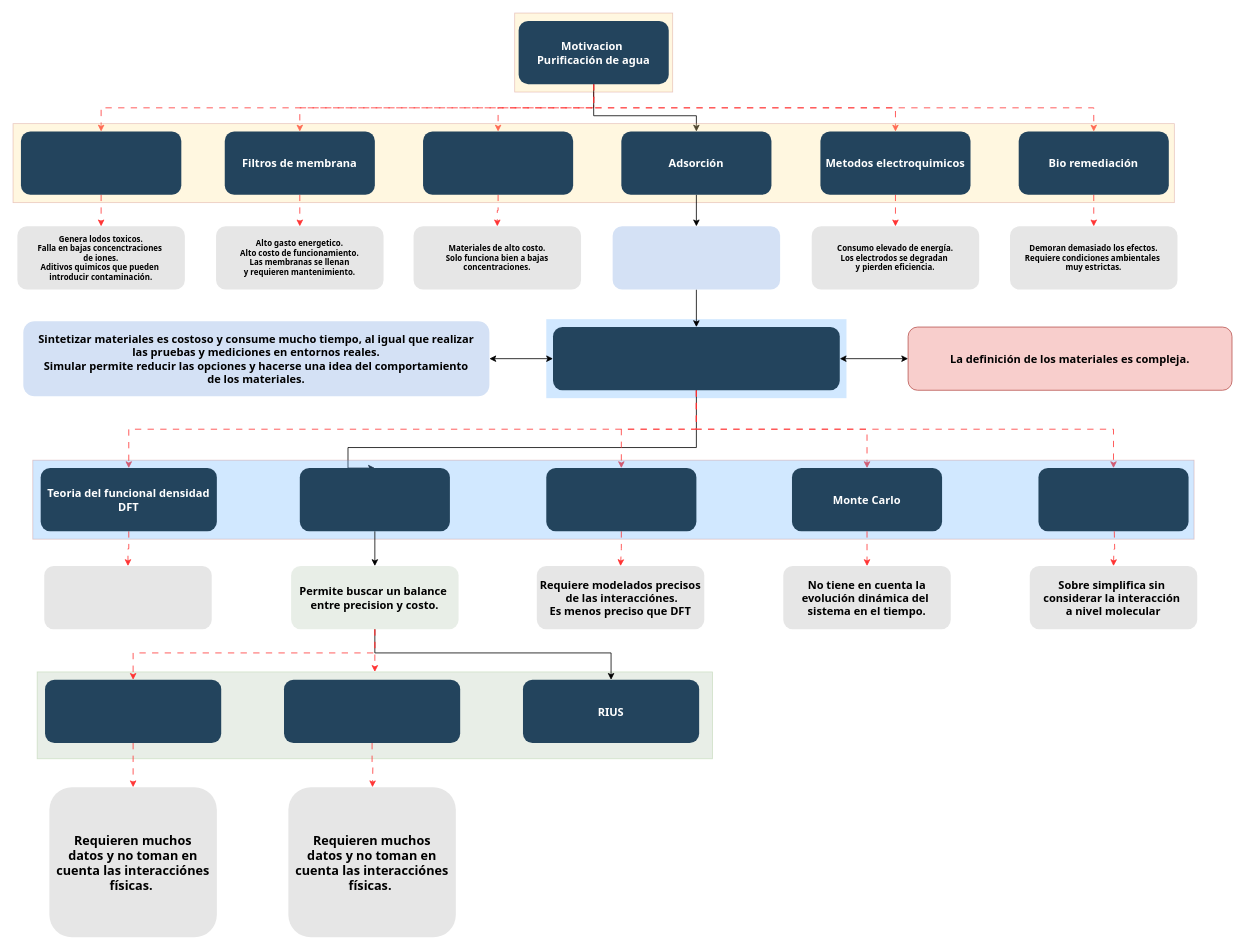
The diagram is 1245 pixels wide and 950 high, and some of its shapes have lost their labels. The centre of each missing label's shape, as x and y in pixels:
"Aprendizaje de Maquina" goes at (374,499).
"Deep Learning" goes at (372,711).
"Dinamica Molecular" goes at (621,499).
"Intercambio de iones" goes at (498,162).
"ML Clasico" goes at (133,711).
"Modelos Continuos" goes at (1113,499).
"Muchas opciones de adsorbentes. Bajo costo de implementación." goes at (696,257).
"Muy elevado costo computacional. Escalabilidad reducida." goes at (127,597).
"Precipitacion y coagulación" goes at (101,162).
"Tarea Simulación de potenciales agentes adsorbentes" goes at (696,358).
